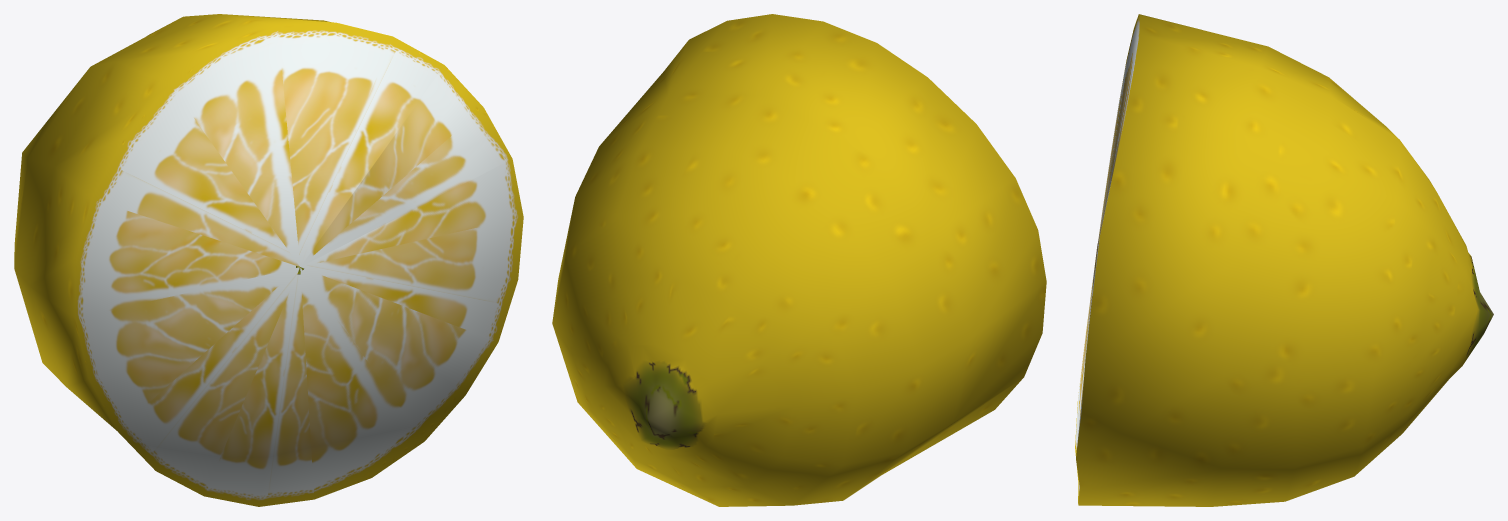
The model's file is lemonStemHalf.fbx.
The picture shows the model from 3 angles, left to right: view 1: azimuth 30°, elevation 25°; view 2: azimuth 150°, elevation 25°; view 3: azimuth 270°, elevation 25°; orthographic projection. The views are drawn at different scales.
Parts seen in each view (by area): view 1: lemonStemHalf; view 2: lemonStemHalf; view 3: lemonStemHalf.
Part boxes in pixels (left/top/right/bottom): lemonStemHalf: left=14, top=14, right=523, bottom=506; lemonStemHalf: left=552, top=14, right=1046, bottom=506; lemonStemHalf: left=1075, top=14, right=1493, bottom=506.
Bounding box in the file's own units: 18.58 × 18.48 × 15.68.
